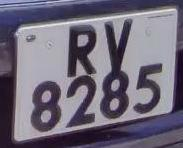2: (64, 73, 100, 133)
5: (133, 55, 166, 118)
8: (27, 75, 65, 139), (100, 67, 131, 122)
R: (61, 21, 104, 78)
V: (99, 17, 137, 72)
